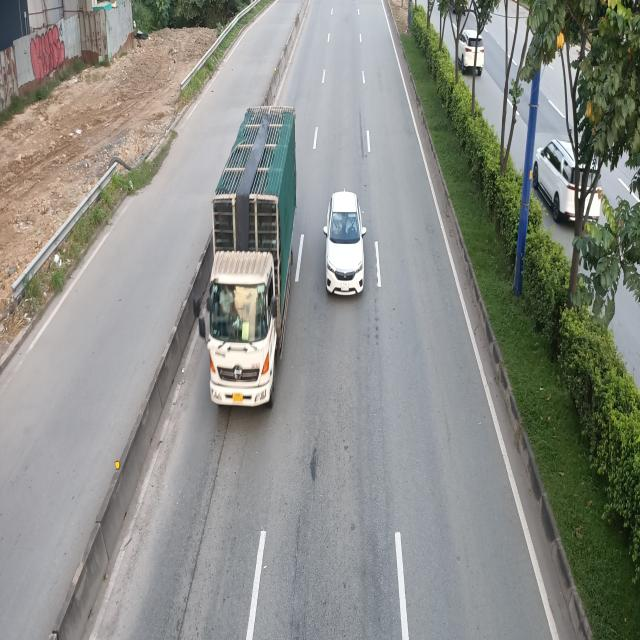car: (324, 190, 367, 295)
truck: (196, 103, 300, 411)
